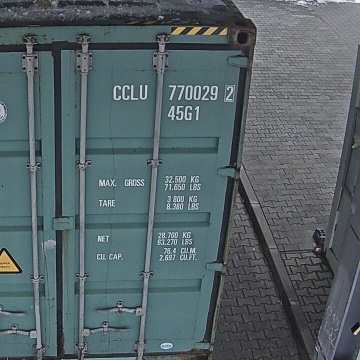serial_id: (113, 85, 234, 101)
